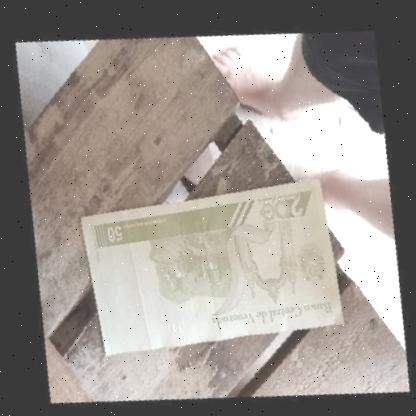fifty-back-vef: (65, 144, 357, 384)
